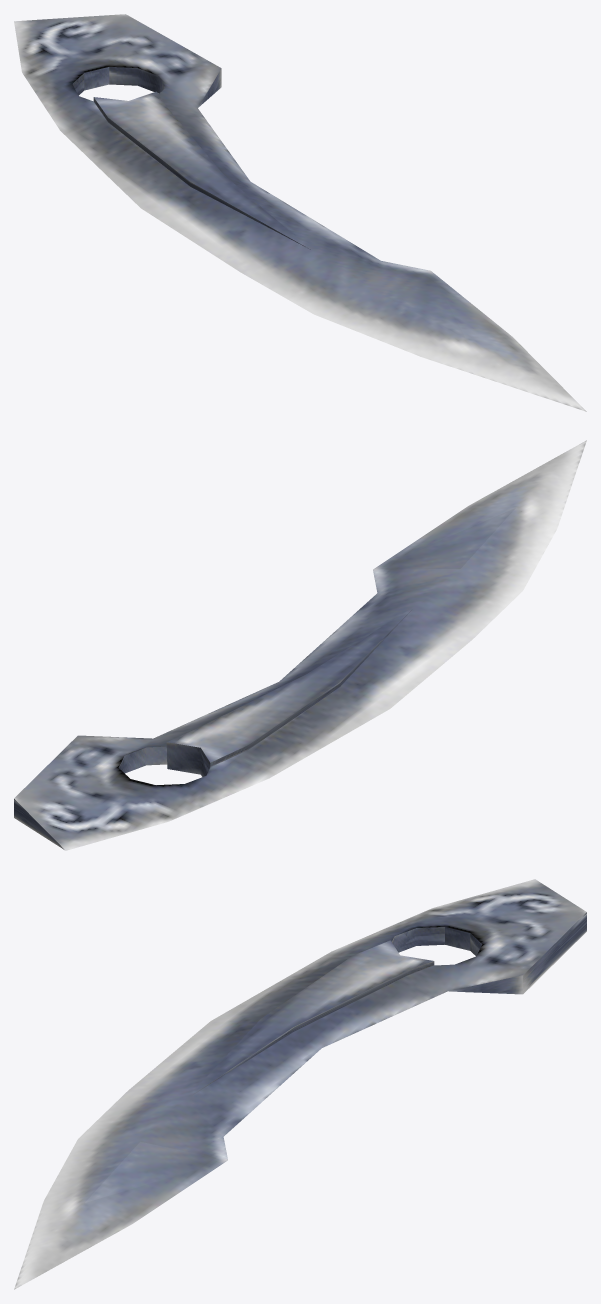
3 views of the same model, one above another, from view 1: azimuth 30°, elevation 25°; view 2: azimuth 150°, elevation 25°; view 3: azimuth 330°, elevation 25° (orthographic).
Parts seen in each view (by area): view 1: wpnFT01; view 2: wpnFT01; view 3: wpnFT01.
Boxes of the visible parts, x1,y1,x2,y2 form: wpnFT01: [14, 14, 586, 411]; wpnFT01: [14, 440, 586, 850]; wpnFT01: [14, 879, 586, 1289].
Bounding box in the file's own units: 1.15 × 0.162 × 5.57.
Materials: 1 (1 with a texture image).
